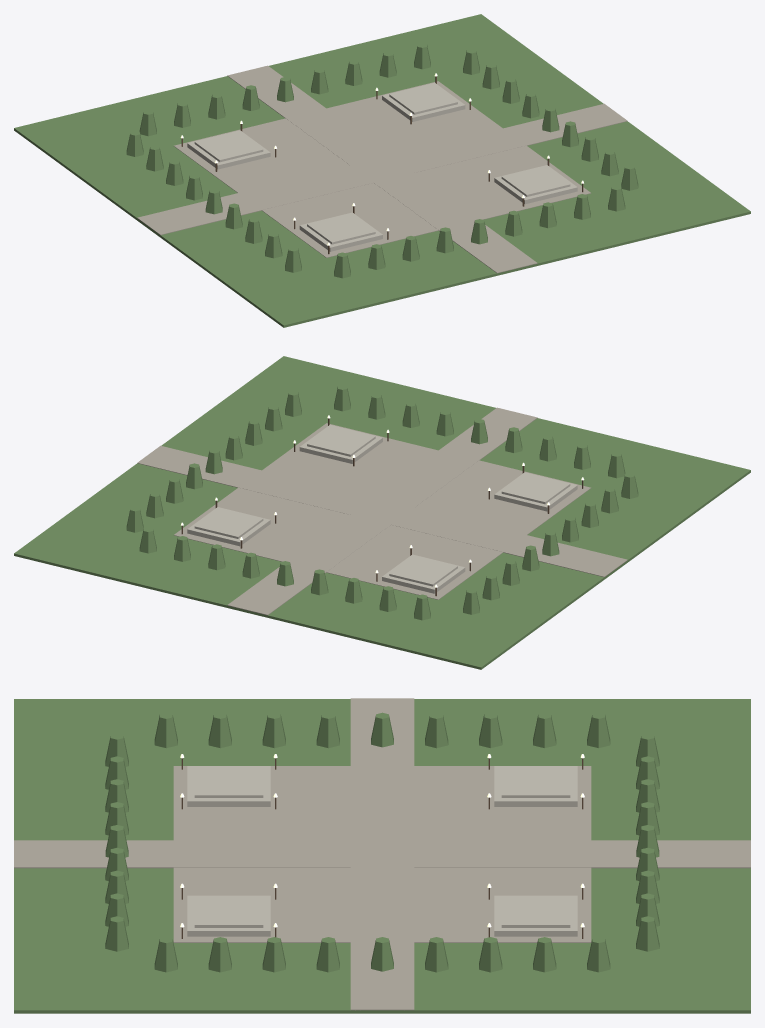
File: 01_champ_de_mars.glb
3 renders of one model, top to bottom at view 1: azimuth 30°, elevation 25°; view 2: azimuth 150°, elevation 25°; view 3: azimuth 270°, elevation 25°, orthographic. The views are drawn at different scales.
Visible parts, largest first — view 1: champ_de_mars_grass, champ_de_mars_gravel, champ_de_mars_stone; view 2: champ_de_mars_grass, champ_de_mars_gravel, champ_de_mars_stone; view 3: champ_de_mars_grass, champ_de_mars_gravel, champ_de_mars_stone.
Boxes of the visible parts, bbox=[...] form: champ_de_mars_grass: bbox=[14, 14, 750, 327]; champ_de_mars_gravel: bbox=[137, 65, 627, 273]; champ_de_mars_stone: bbox=[187, 82, 577, 251]; champ_de_mars_grass: bbox=[14, 356, 750, 669]; champ_de_mars_gravel: bbox=[137, 407, 627, 615]; champ_de_mars_stone: bbox=[187, 424, 577, 593]; champ_de_mars_grass: bbox=[14, 699, 750, 1013]; champ_de_mars_gravel: bbox=[14, 698, 750, 1010]; champ_de_mars_stone: bbox=[187, 766, 577, 936].
Bounding box in the file's own units: 300 × 13.5 × 300.
